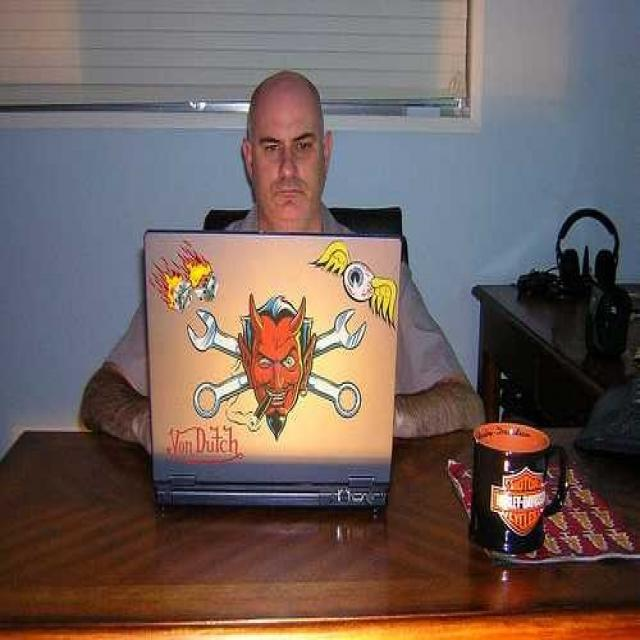laptop: (132, 221, 410, 532)
